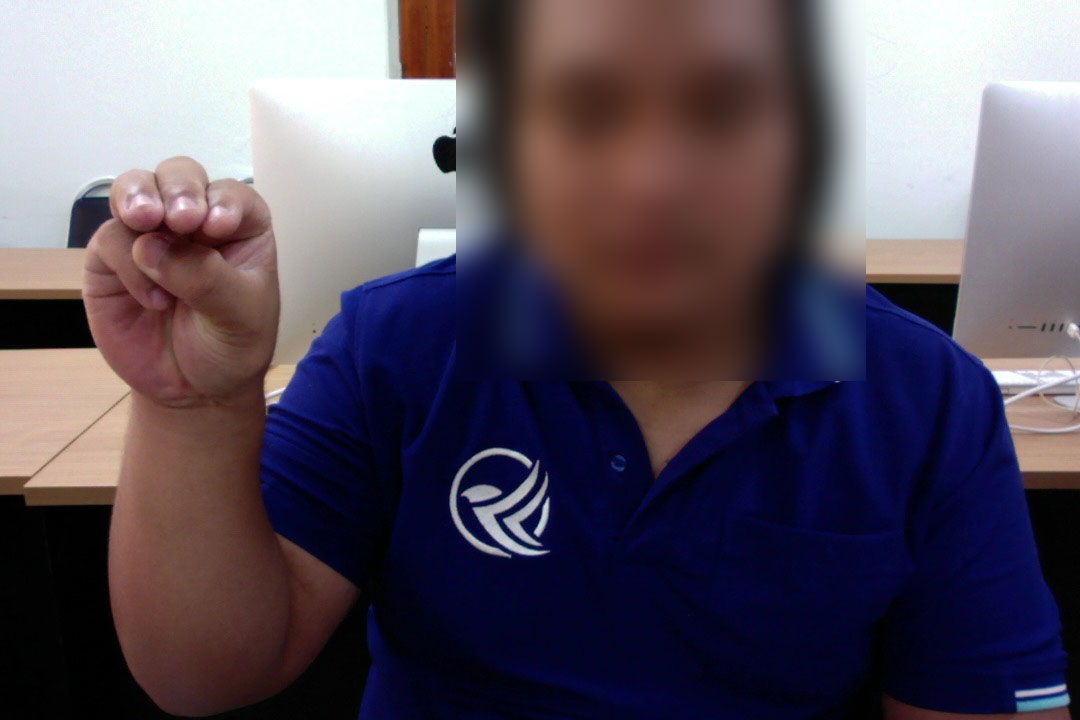mor: (67, 146, 293, 421)
